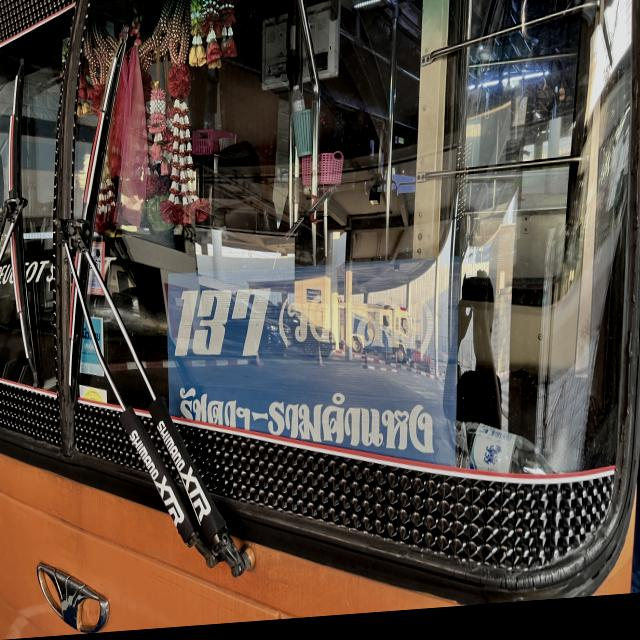Bus Side Number: (167, 261, 457, 495)
